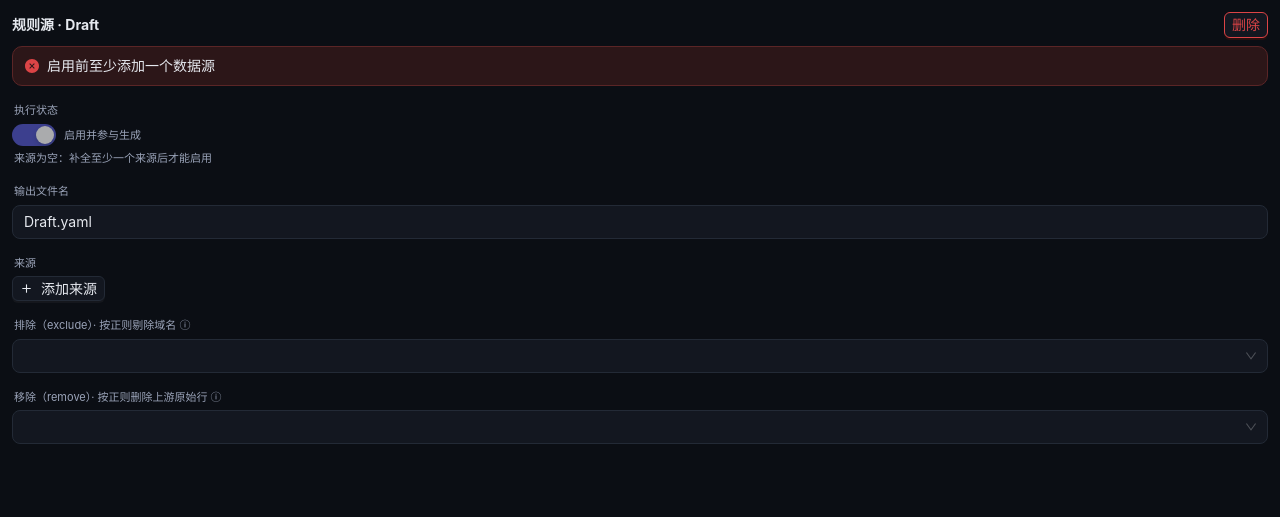
Test: forces an enabled empty provider into a disabled draft when saving any change
The image size is (1280, 517).
Step 1. Replace the text in the field named "输出文件名" with "Draft2.yaml" → {"x": 640, "y": 222}, box x1=12 y1=204 x2=1268 y2=238
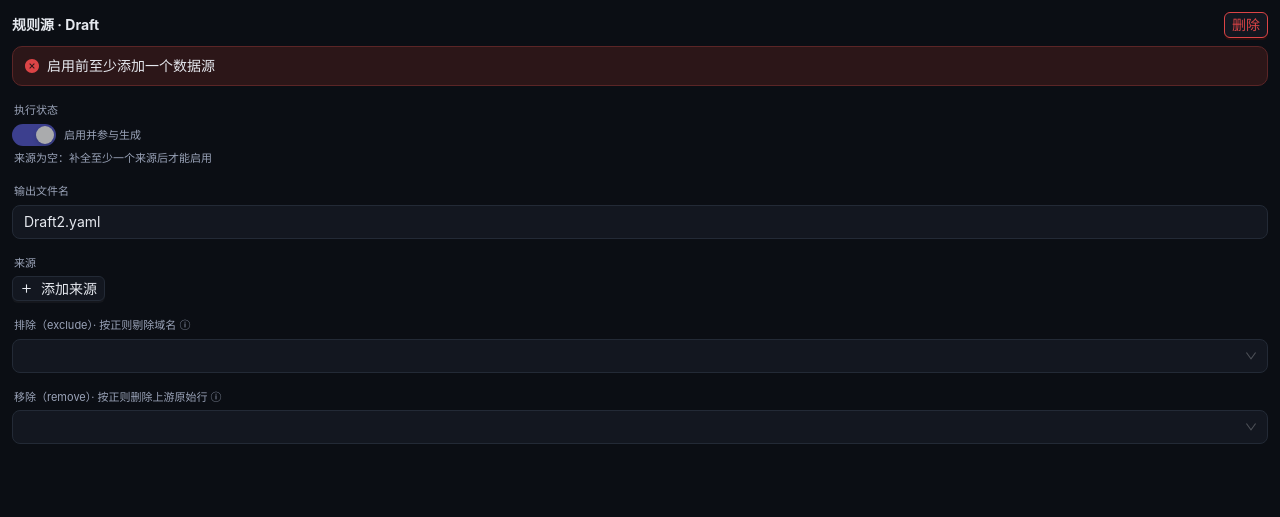
Expected: the text "启用前至少添加一个数据源" is shown, x1=47 y1=56 x2=215 y2=74
Step 2. Leave the field named "输出文件名", box x1=12 y1=204 x2=1268 y2=238
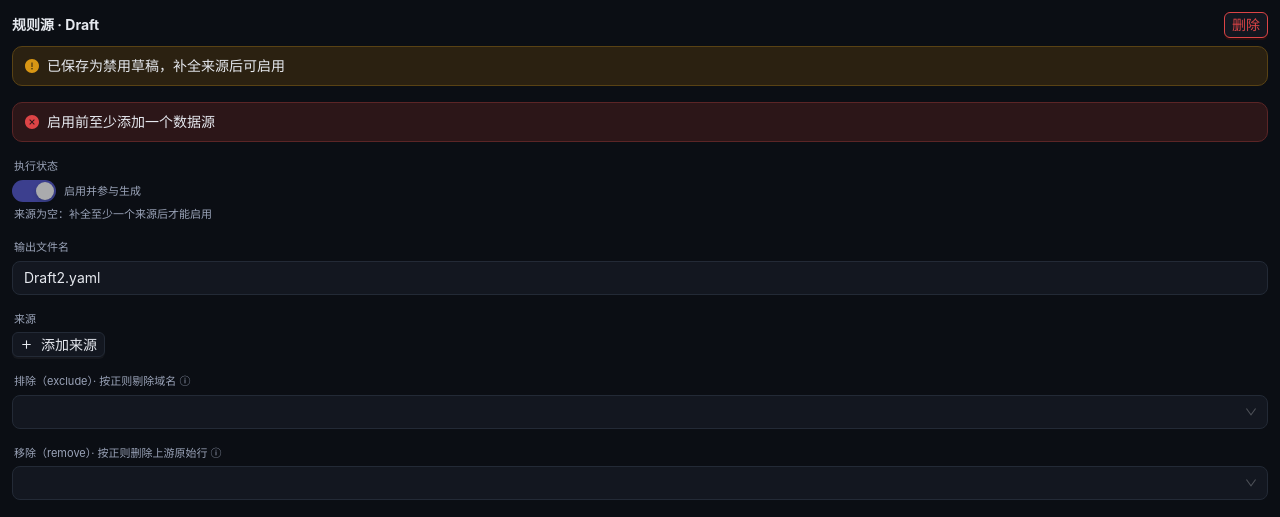
Now the text "已保存为禁用草稿，补全来源后可启用" is shown, box x1=47 y1=56 x2=285 y2=74
